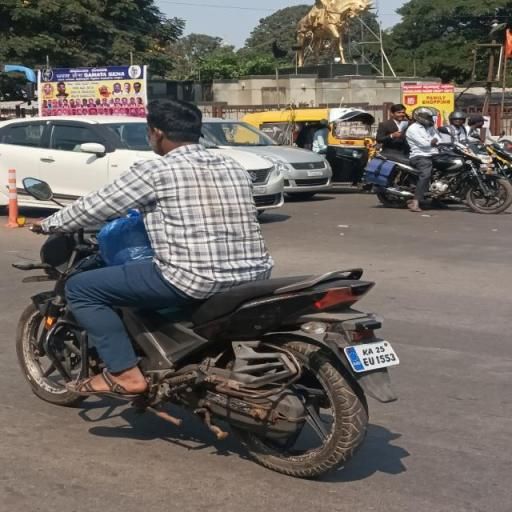bike: (11, 94, 413, 452)
numberplate: (344, 334, 400, 376)
withouthelmet: (149, 103, 202, 149)
